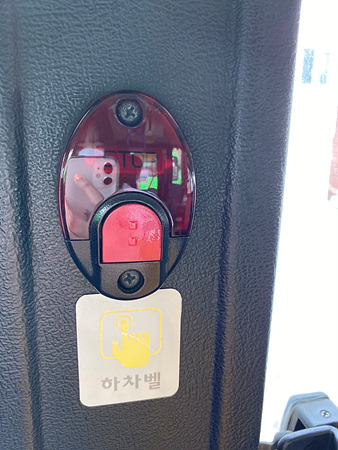bell: (61, 91, 195, 299)
